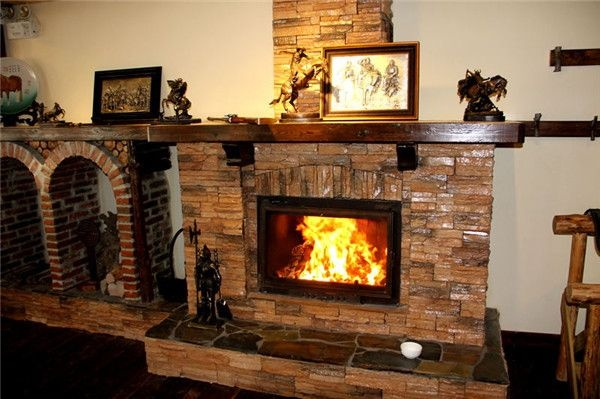fire: (291, 214, 389, 286)
